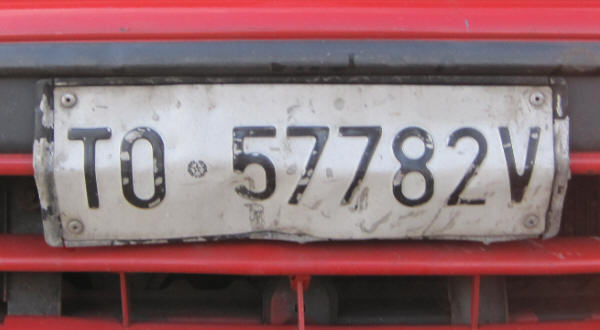license_plate: (50, 85, 556, 236)
